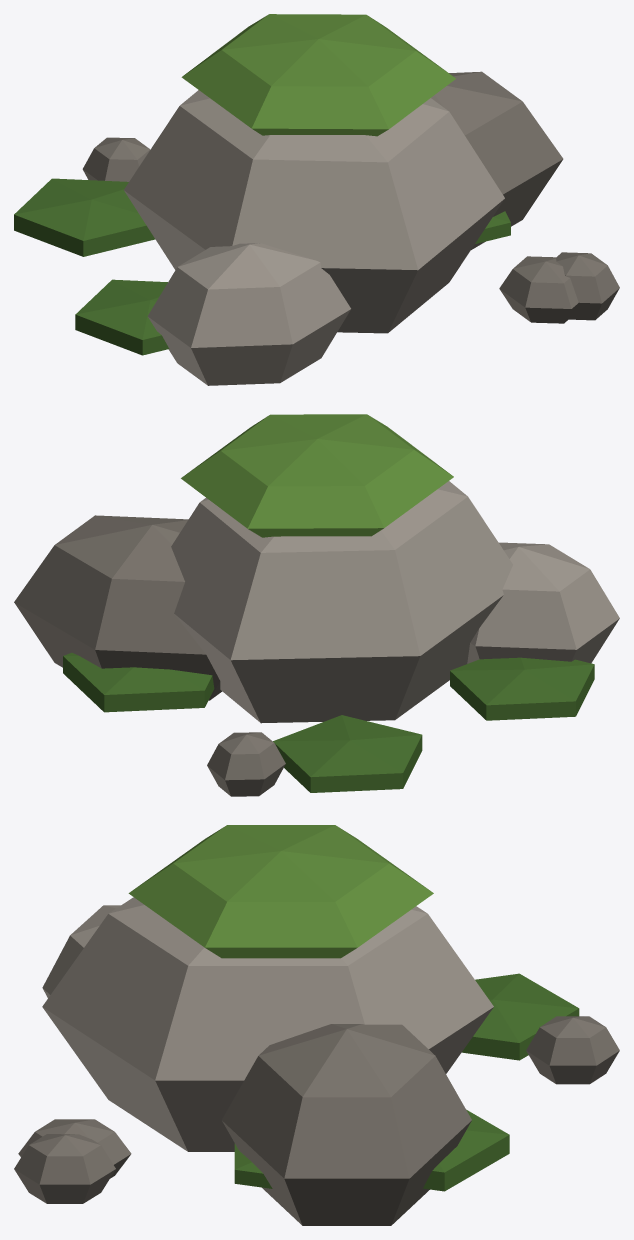
File: boulder_mossy.glb
3 views of the same model, one above another, from view 1: azimuth 30°, elevation 25°; view 2: azimuth 150°, elevation 25°; view 3: azimuth 270°, elevation 25° (orthographic). The views are drawn at different scales.
Parts seen in each view (by area): view 1: scatter_rocks_mossy_boulder; view 2: scatter_rocks_mossy_boulder; view 3: scatter_rocks_mossy_boulder.
Part boxes in pixels (x1,y1,x2,y2): scatter_rocks_mossy_boulder: (14,14,619,385); scatter_rocks_mossy_boulder: (14,414,619,796); scatter_rocks_mossy_boulder: (14,825,619,1225).
Bounding box in the file's own units: 2.38 × 1.23 × 2.31.
